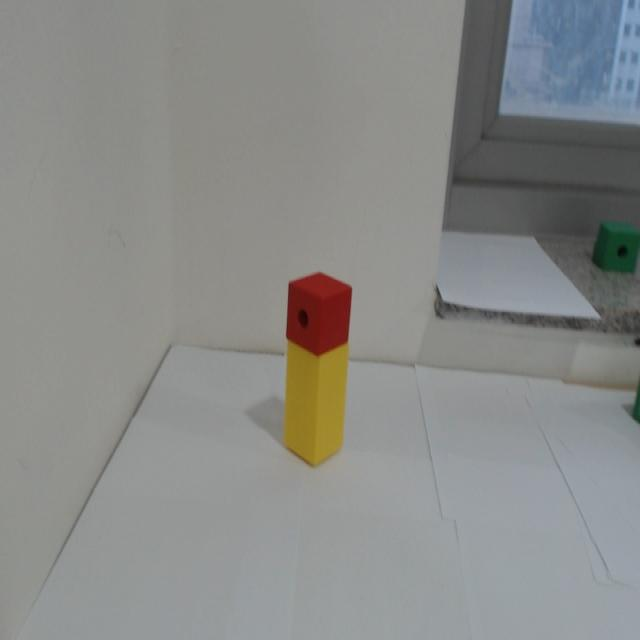cube: (285, 268, 354, 357)
